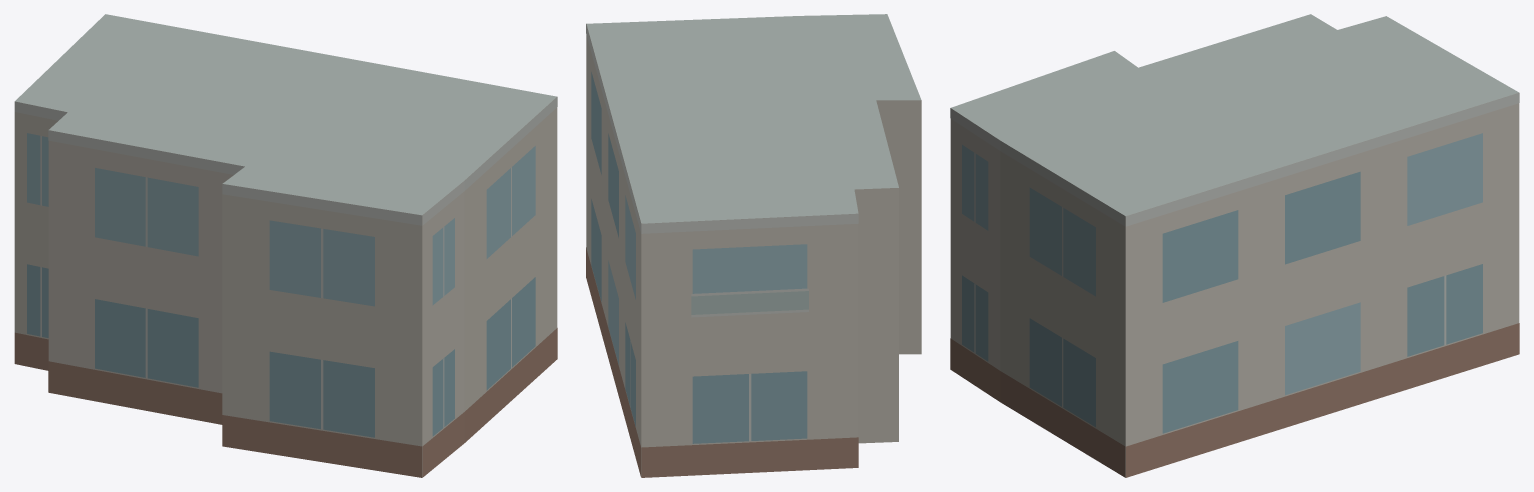
The model's file is survey-upis-32998280.glb.
3 renders of one model, left to right at view 1: azimuth 30°, elevation 25°; view 2: azimuth 150°, elevation 25°; view 3: azimuth 270°, elevation 25°, orthographic. The views are drawn at different scales.
Parts seen in each view (by area): view 1: survey-upis-32998280.tmp; view 2: survey-upis-32998280.tmp; view 3: survey-upis-32998280.tmp.
Boxes of the visible parts, left/top/right/bottom form: survey-upis-32998280.tmp: left=14, top=14, right=557, bottom=477; survey-upis-32998280.tmp: left=586, top=14, right=921, bottom=477; survey-upis-32998280.tmp: left=950, top=14, right=1519, bottom=477.
Bounding box in the file's own units: 10.13 × 6.1 × 12.03.
